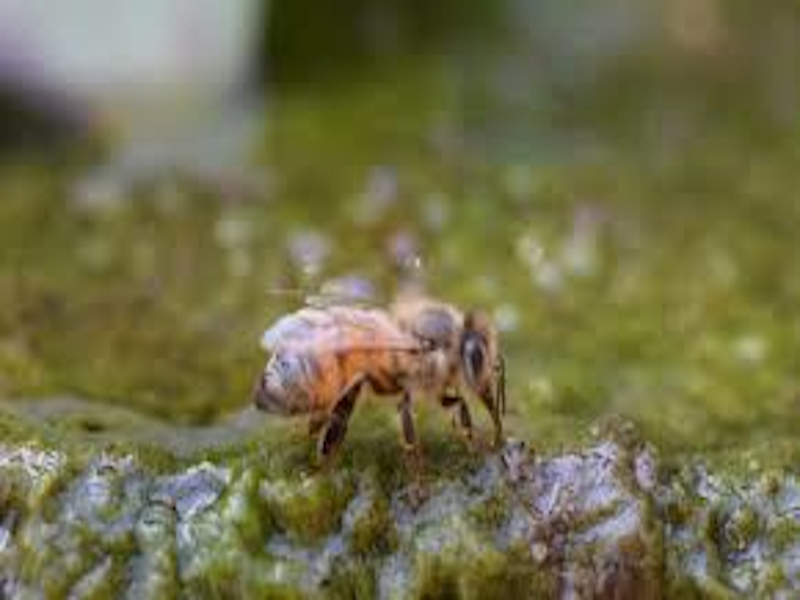abeja: (221, 259, 544, 480)
